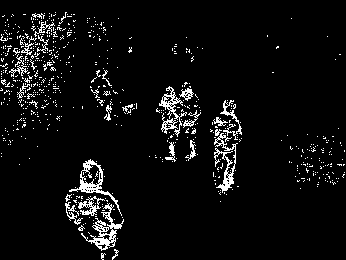person: (62, 158, 128, 260), (212, 97, 243, 191), (180, 81, 207, 159), (156, 85, 181, 169), (91, 68, 118, 122)
